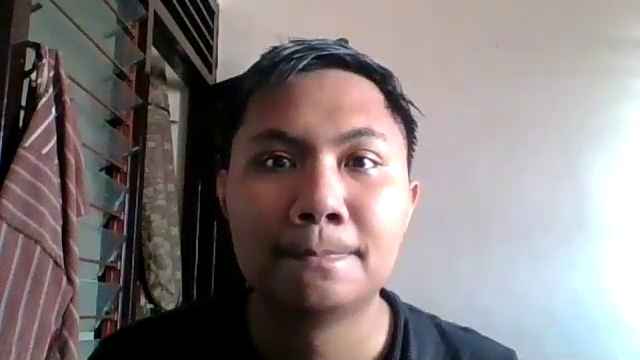Not Distracted: (210, 79, 422, 315)
